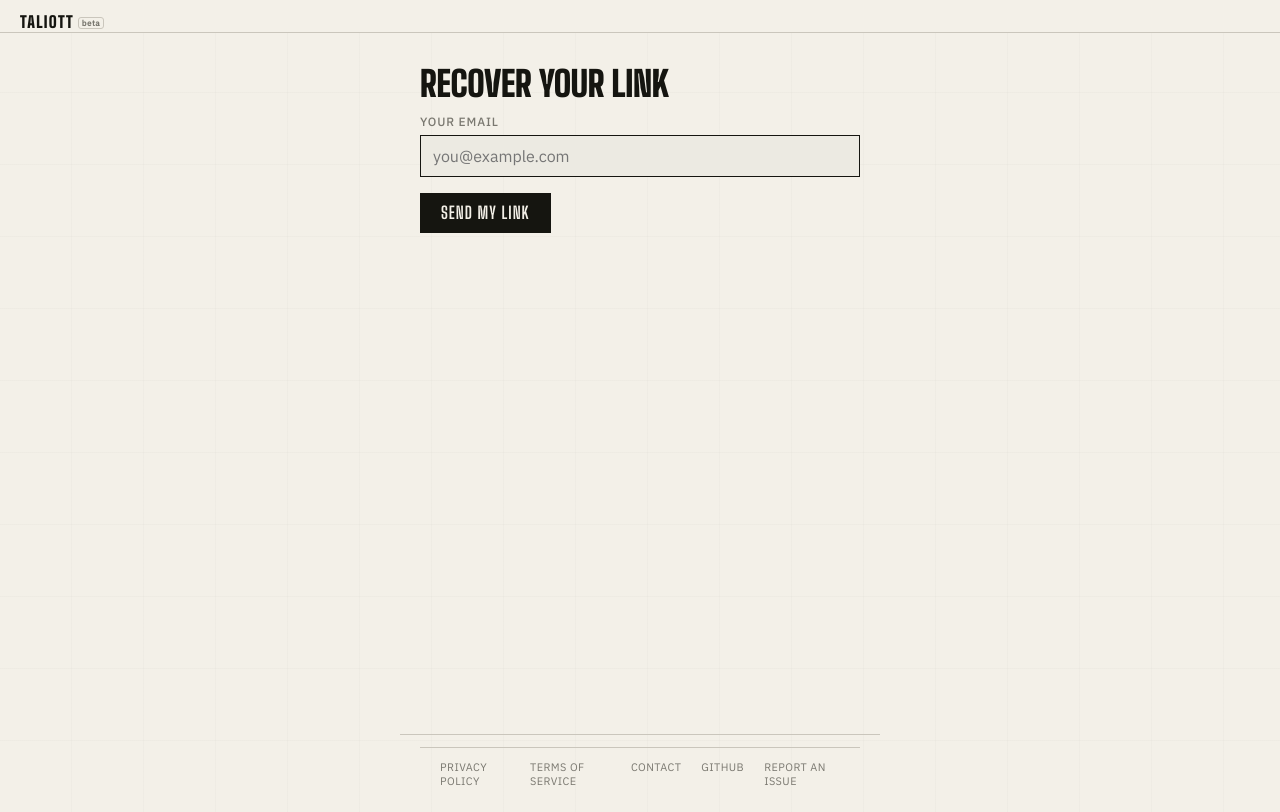
Test: ResendLinkView › disables button while submitting
The width and height of the screenshot is (1280, 812).
Type "a@b.com" into the field at (640, 156), box [420,134,860,177]
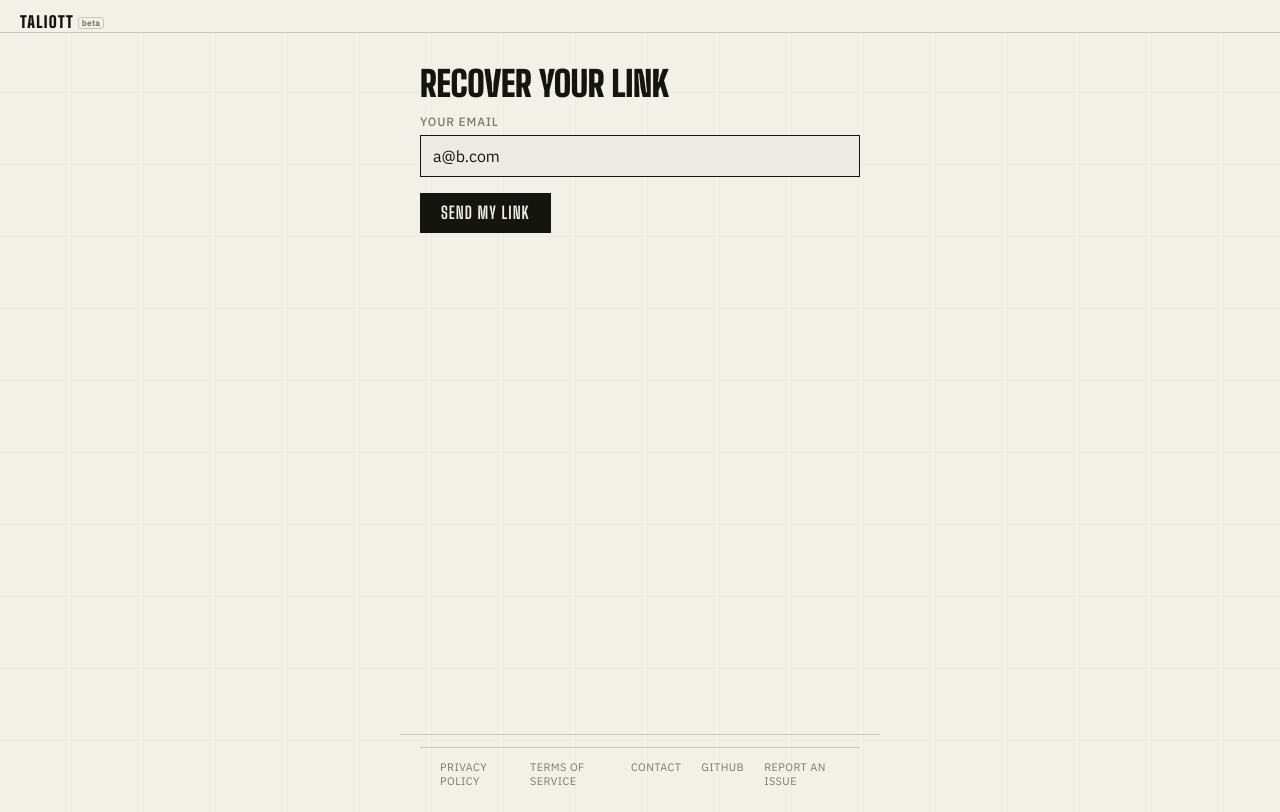
Submit the form named "resend link", box [420,114,860,233]
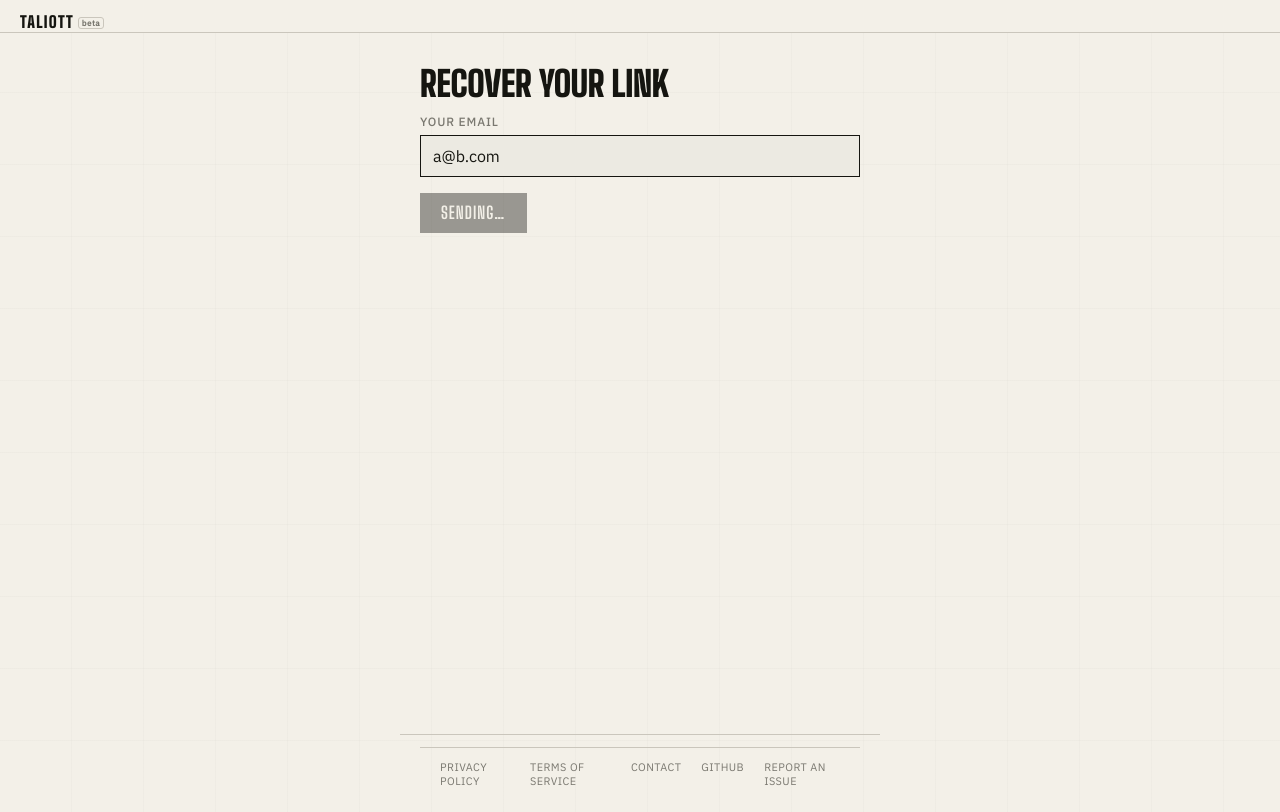
Now the button "Sending…" is disabled, box [420,193,527,233]
